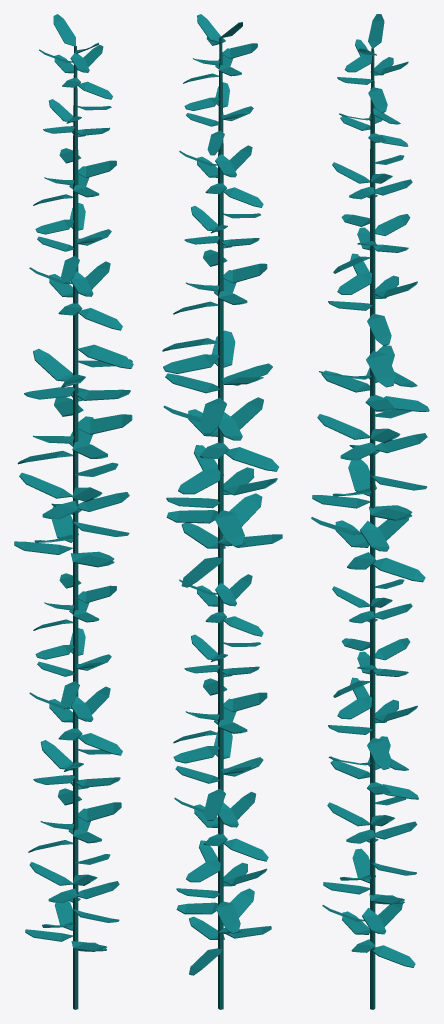
Rendered from Seaweed_019.glb.
The picture shows the model from 3 angles, left to right: view 1: azimuth 30°, elevation 25°; view 2: azimuth 210°, elevation 25°; view 3: azimuth 330°, elevation 25°; orthographic projection.
Visible parts, largest first — view 1: Seaweed_019; view 2: Seaweed_019; view 3: Seaweed_019.
Boxes of the visible parts, x1,y1,x2,y2 form: Seaweed_019: (14,14,133,1009); Seaweed_019: (162,14,282,1009); Seaweed_019: (311,14,429,1009).
Bounding box in the file's own units: 0.6473 × 6.03 × 0.644.
Materials: 1 (1 with a texture image).
